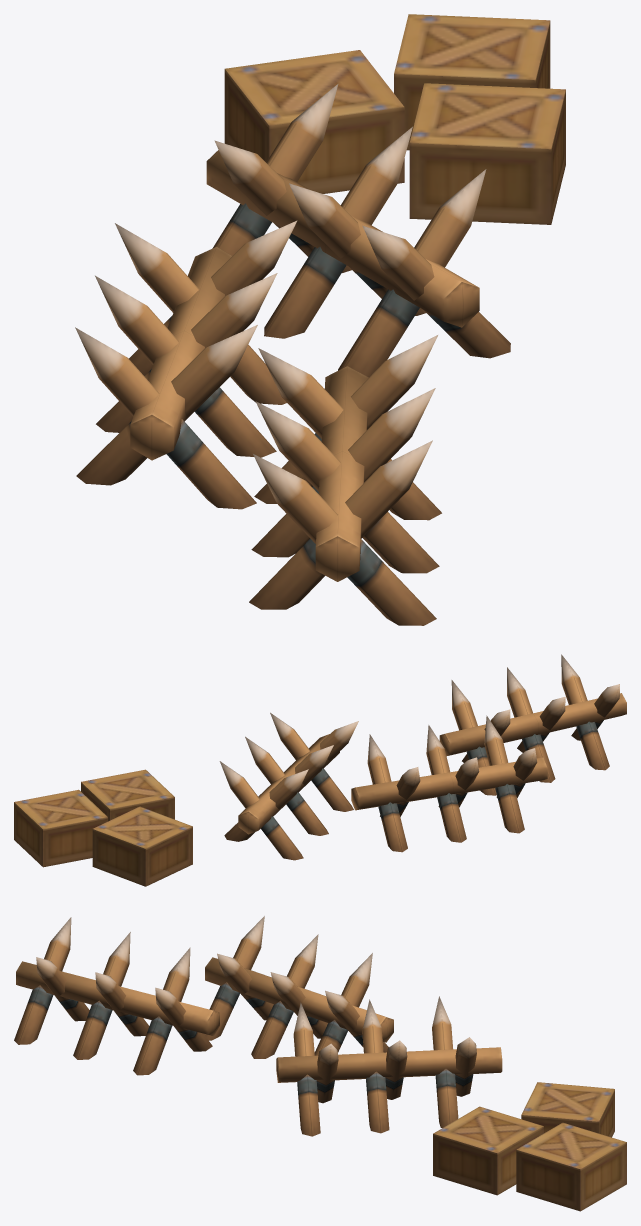
Rendered from area_06_22.fbx.
3 renders of one model, top to bottom at view 1: azimuth 30°, elevation 25°; view 2: azimuth 150°, elevation 25°; view 3: azimuth 270°, elevation 25°, orthographic. The views are drawn at different scales.
Visible parts, largest first — view 1: area_06_22; view 2: area_06_22; view 3: area_06_22.
Boxes of the visible parts, bbox=[...] form: area_06_22: bbox=[75, 14, 565, 625]; area_06_22: bbox=[14, 654, 626, 886]; area_06_22: bbox=[14, 916, 626, 1211].
Size of the model in its own units: 11.44 by 2.36 by 14.38.
